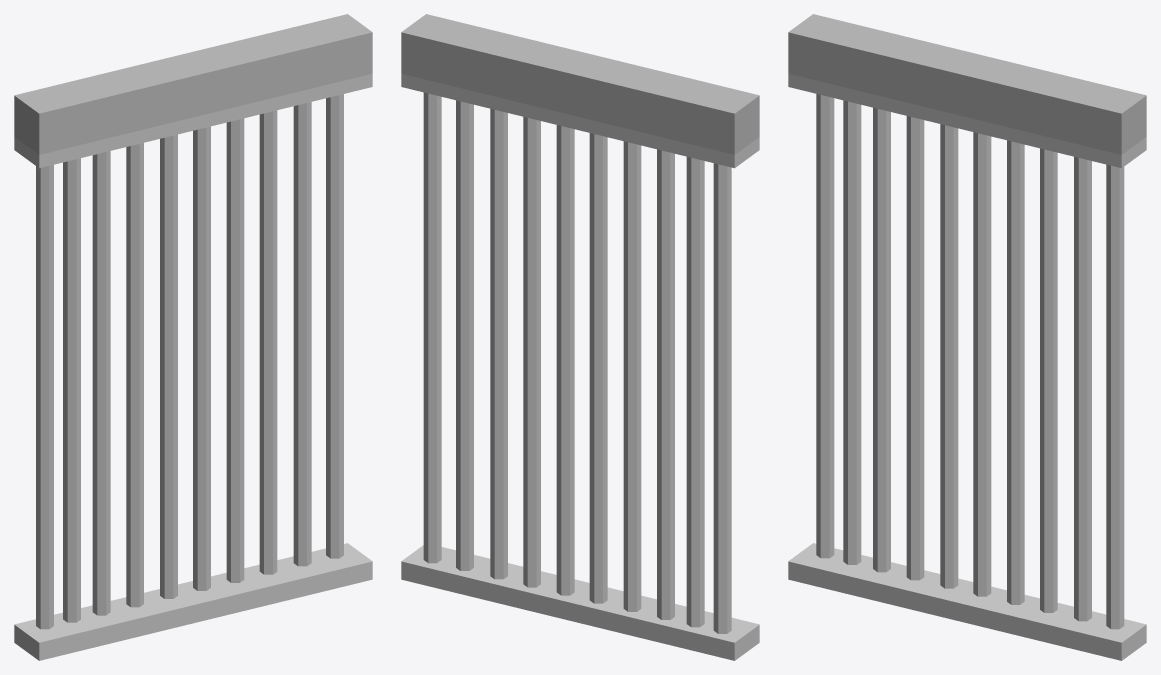
Rendered from P_Jail_Wall_1.fbx.
3 views of the same model, side by side, from view 1: azimuth 30°, elevation 25°; view 2: azimuth 150°, elevation 25°; view 3: azimuth 330°, elevation 25° (orthographic).
Visible parts, largest first — view 1: P_Jail_Wall_1; view 2: P_Jail_Wall_1; view 3: P_Jail_Wall_1.
Part boxes in pixels (left/top/right/bottom): P_Jail_Wall_1: left=14, top=14, right=372, bottom=660; P_Jail_Wall_1: left=401, top=14, right=759, bottom=660; P_Jail_Wall_1: left=788, top=14, right=1146, bottom=660.
Size of the model in its own units: 1000 by 130 by 1568.
